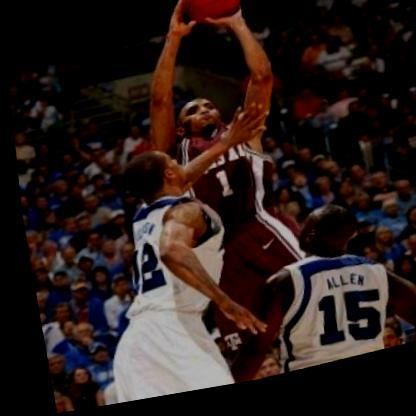basketball: (168, 0, 254, 42)
